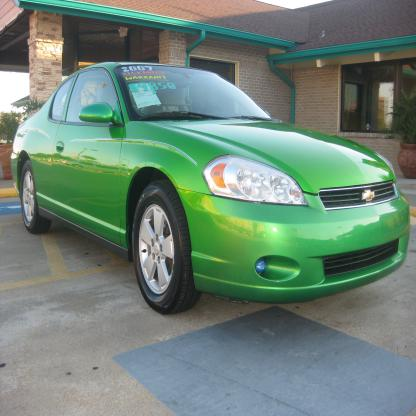Vehicle: (11, 61, 411, 316)
